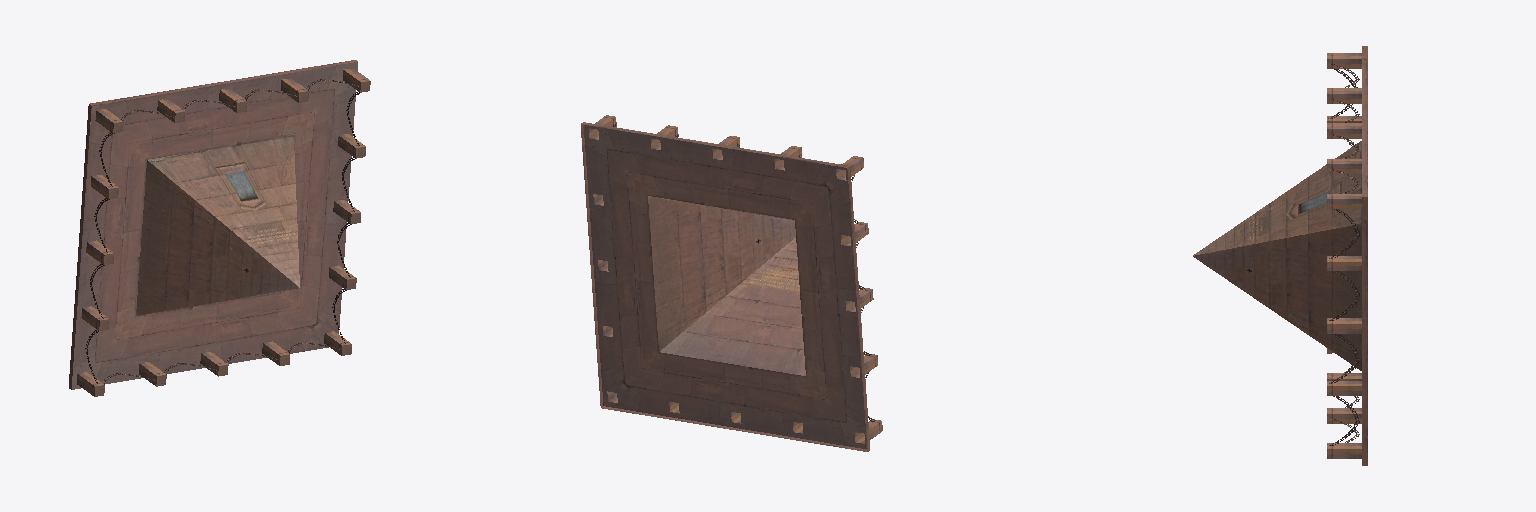
The picture shows the model from 3 angles: view 1: azimuth 30°, elevation 25°; view 2: azimuth 150°, elevation 25°; view 3: azimuth 270°, elevation 25°; orthographic projection.
Parts seen in each view (by area): view 1: DEU_603_KARLSRUHE_PYRAMID_S:DEU_603_KARLSRUHE_PYRAMID; view 2: DEU_603_KARLSRUHE_PYRAMID_S:DEU_603_KARLSRUHE_PYRAMID; view 3: DEU_603_KARLSRUHE_PYRAMID_S:DEU_603_KARLSRUHE_PYRAMID.
Boxes of the visible parts, x1,y1,x2,y2 form: DEU_603_KARLSRUHE_PYRAMID_S:DEU_603_KARLSRUHE_PYRAMID: [69, 60, 370, 396]; DEU_603_KARLSRUHE_PYRAMID_S:DEU_603_KARLSRUHE_PYRAMID: [581, 115, 882, 451]; DEU_603_KARLSRUHE_PYRAMID_S:DEU_603_KARLSRUHE_PYRAMID: [1193, 46, 1367, 465].
Bounding box in the file's own units: 10.48 × 10.48 × 5.56.
Materials: 1 (1 with a texture image).